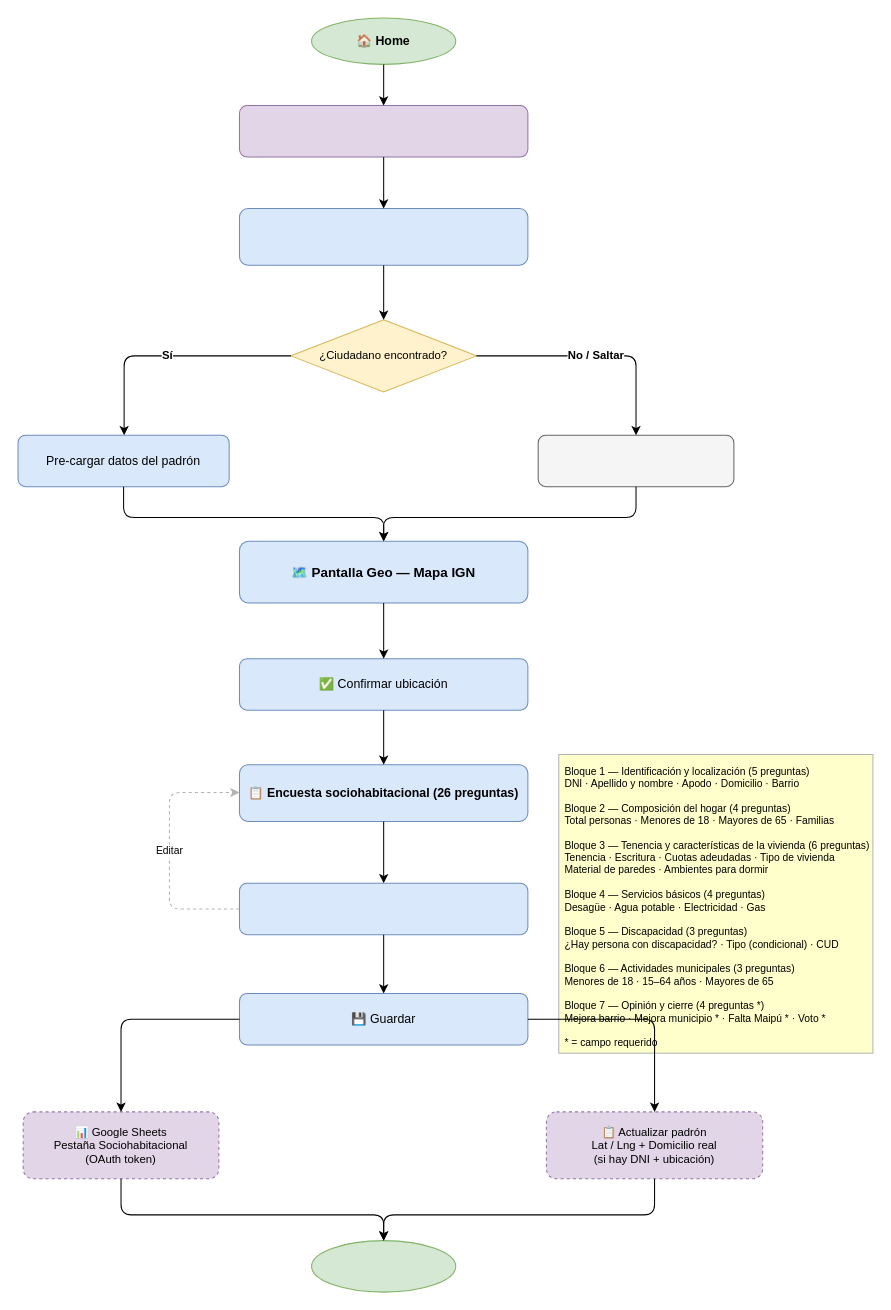
Image size: 891x1310. Some labels were removed from this diagram. The shapes that lost their labels are listed below. From the top down, each one's centre as x and y in pixels, then its label:
At pixel 383 131: "Tipo de relevamiento → 🏠 Sociohabitacional".
At pixel 383 236: "🔍 Buscar en el padrón".
At pixel 635 460: "Continuar sin datos del padrón".
At pixel 383 908: "📄 Resumen".
At pixel 383 1266: "✅ Listo".
